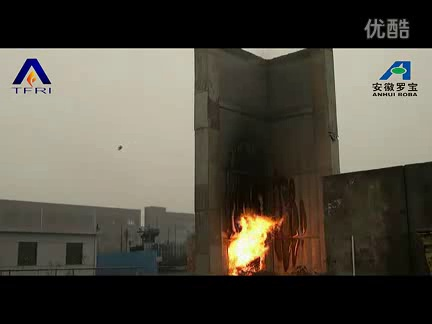fire: (221, 206, 290, 274)
